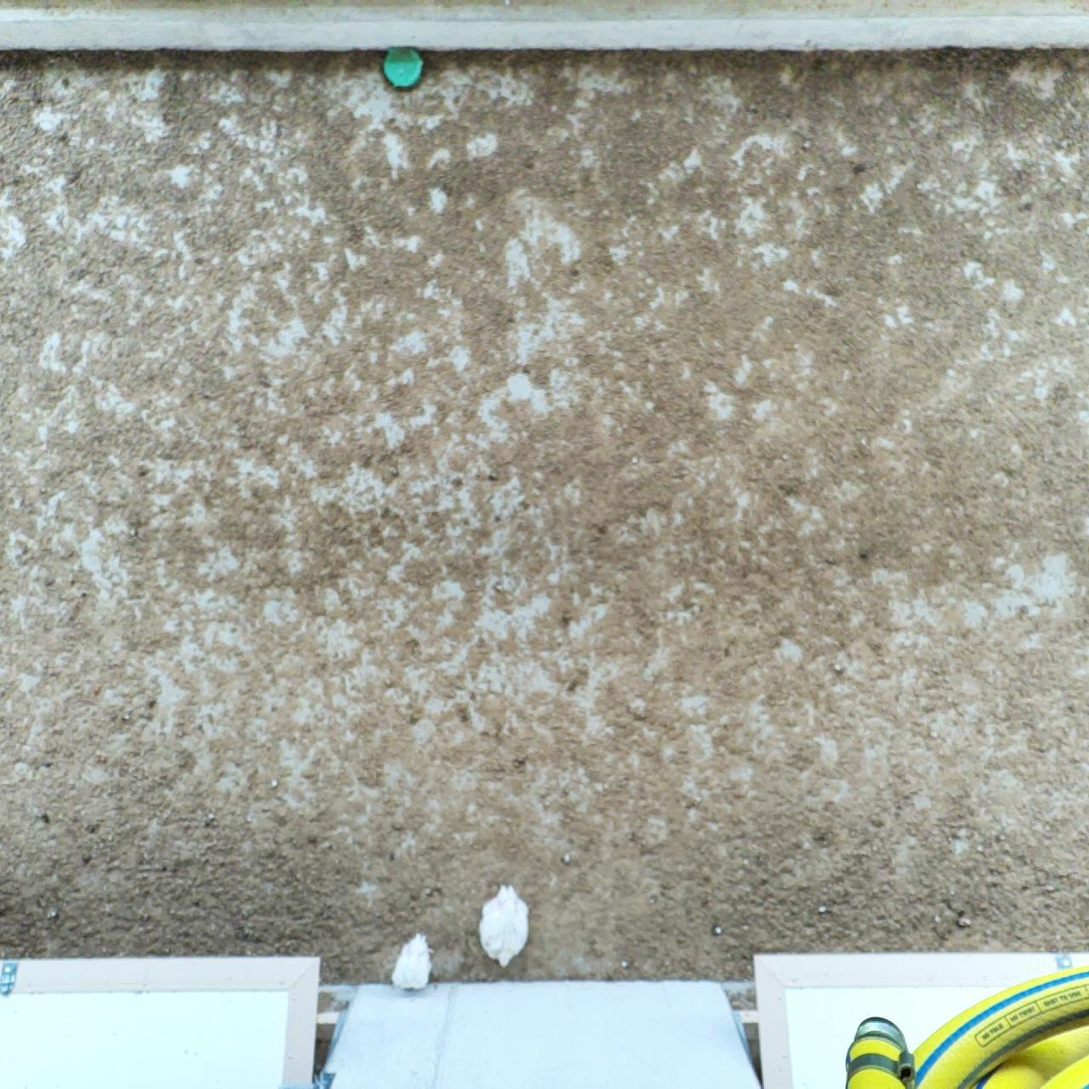chicken: (475, 877, 537, 972), (386, 929, 434, 993)
